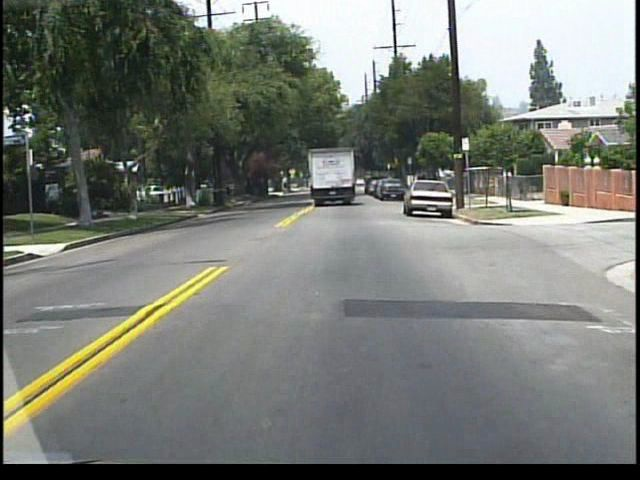person: (500, 165, 514, 199)
